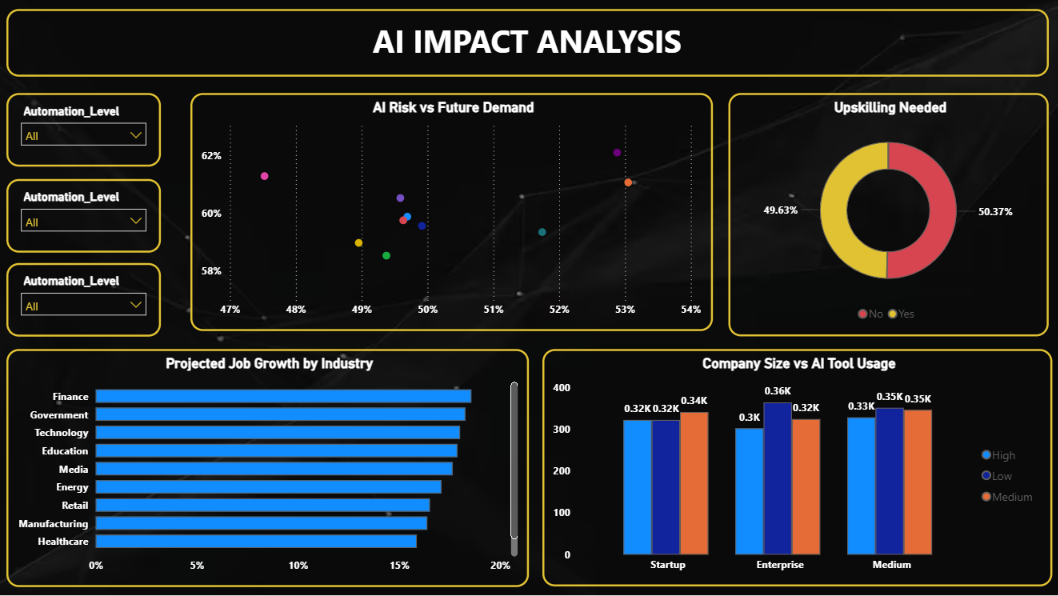

Layout of this report page (visuals, bound fields, positions):
{"tool":"powerbi","page":{"name":"AI Impact Analysis","canvas":[1280,720],"ordinal":2},"visuals":[{"type":"textbox","box":[10,11.2,1257.5,81.2],"z":0},{"type":"donutChart","title":"Upskilling Needed","fields":{"Category":["AI_Impact_on_Jobs_2030.Upskilling_Needed"],"Y":["CountNonNull(AI_Impact_on_Jobs_2030.Employee_ID)"]},"box":[881.2,112.5,386.2,293.8],"z":1000},{"type":"clusteredColumnChart","title":"Company Size vs AI Tool Usage","fields":{"Category":["AI_Impact_on_Jobs_2030.Company_Size"],"Y":["CountNonNull(AI_Impact_on_Jobs_2030.Employee_ID)"],"Series":["AI_Impact_on_Jobs_2030.Automation_Level"]},"box":[656.2,421.2,615,286.2],"z":2000},{"type":"barChart","title":"Projected Job Growth by Industry","fields":{"Category":["AI_Impact_on_Jobs_2030.Industry"],"Y":["AI_Impact_on_Jobs_2030.Avg Job Growth"]},"box":[10,421.2,630,287.5],"z":3000},{"type":"slicer","fields":{"Values":["AI_Impact_on_Jobs_2030.Automation_Level"]},"box":[10,112.5,186.2,88.8],"z":4000},{"type":"slicer","fields":{"Values":["AI_Impact_on_Jobs_2030.Automation_Level"]},"box":[10,317.5,186.2,88.8],"z":5000},{"type":"slicer","fields":{"Values":["AI_Impact_on_Jobs_2030.Automation_Level"]},"box":[10,216.2,186.2,88.8],"z":6000},{"type":"scatterChart","title":"AI Risk vs Future Demand","fields":{"X":["Avg(AI_Impact_on_Jobs_2030.AI Displacement Risk)"],"Y":["Avg(AI_Impact_on_Jobs_2030.Future Score Demand)"],"Series":["AI_Impact_on_Jobs_2030.Industry"]},"box":[231.2,112.5,630,287.5],"z":7000}]}

Visuals, with their boxes in screenshot pixels (x1, y1, x2, y2), scaled from the page's 1280x720 canvas onto the 1058x596 screenshot:
textbox: 8/9/1048/76
"Upskilling Needed" donutChart: 728/93/1048/336
"Company Size vs AI Tool Usage" clusteredColumnChart: 542/349/1051/586
"Projected Job Growth by Industry" barChart: 8/349/529/587
slicer - AI_Impact_on_Jobs_2030.Automation_Level: 8/93/162/167
slicer - AI_Impact_on_Jobs_2030.Automation_Level: 8/263/162/336
slicer - AI_Impact_on_Jobs_2030.Automation_Level: 8/179/162/252
"AI Risk vs Future Demand" scatterChart: 191/93/712/331
